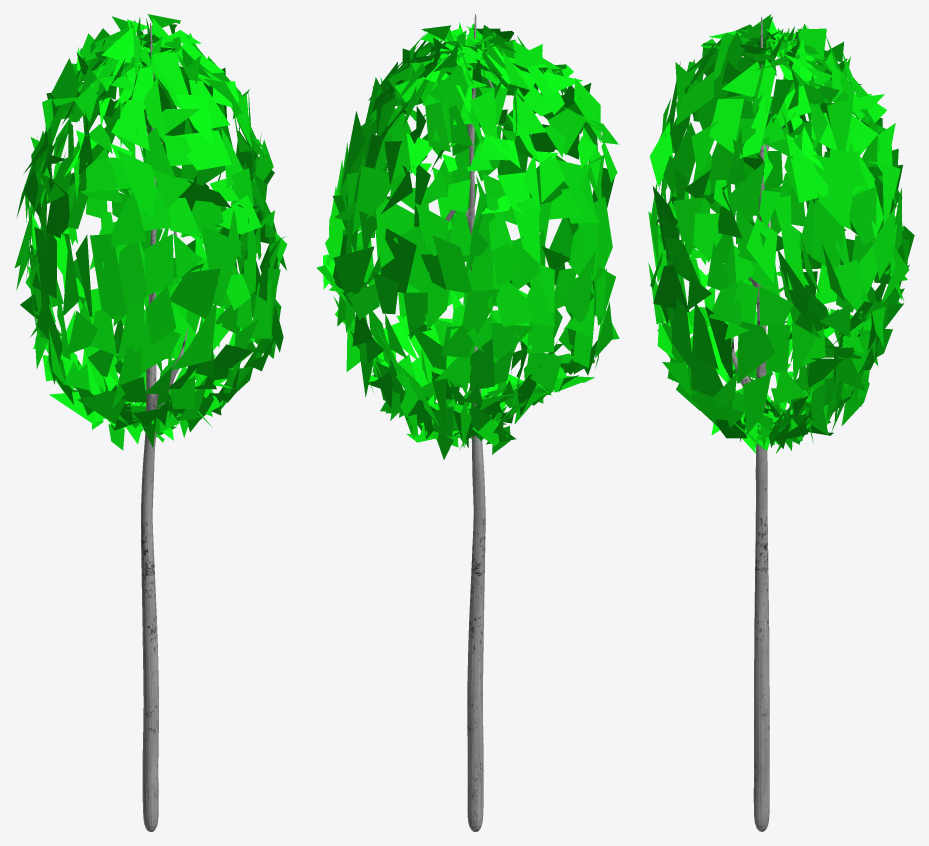
The model's file is Trunk1bake.010.fbx.
The picture shows the model from 3 angles, left to right: view 1: azimuth 30°, elevation 25°; view 2: azimuth 150°, elevation 25°; view 3: azimuth 270°, elevation 25°; orthographic projection.
Visible parts, largest first — view 1: Trunk1bake.010; view 2: Trunk1bake.010; view 3: Trunk1bake.010.
Part boxes in pixels (<box>): Trunk1bake.010: <box>14,14,287,831</box>; Trunk1bake.010: <box>316,14,619,831</box>; Trunk1bake.010: <box>648,14,914,831</box>.
Bounding box in the file's own units: 816 × 2574 × 762.
2 materials, 1 textured.
